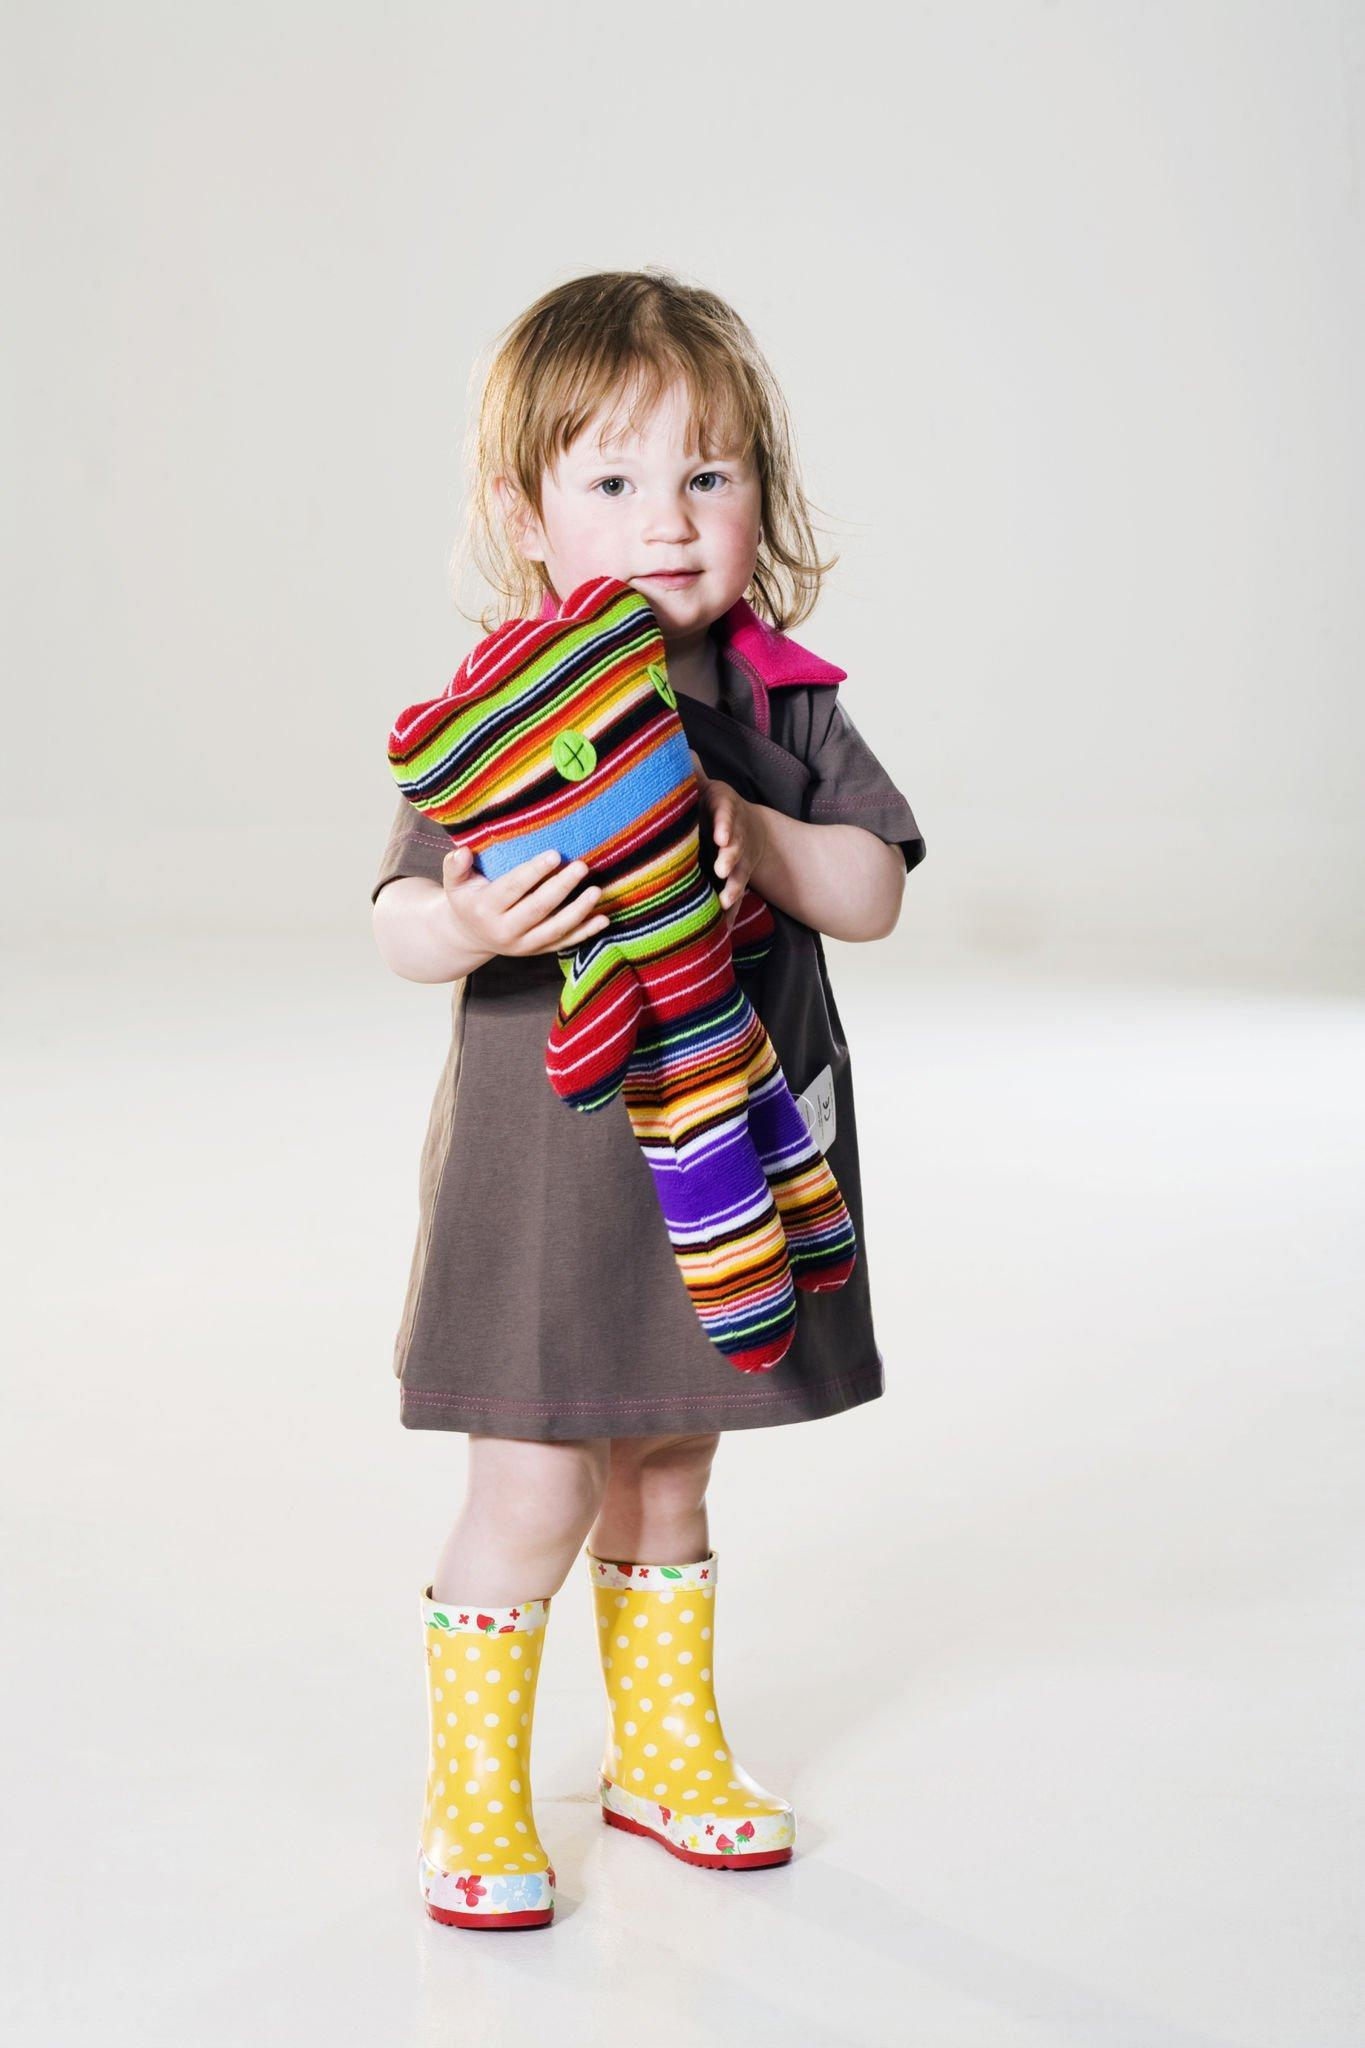Healthy: (422, 251, 899, 652)
